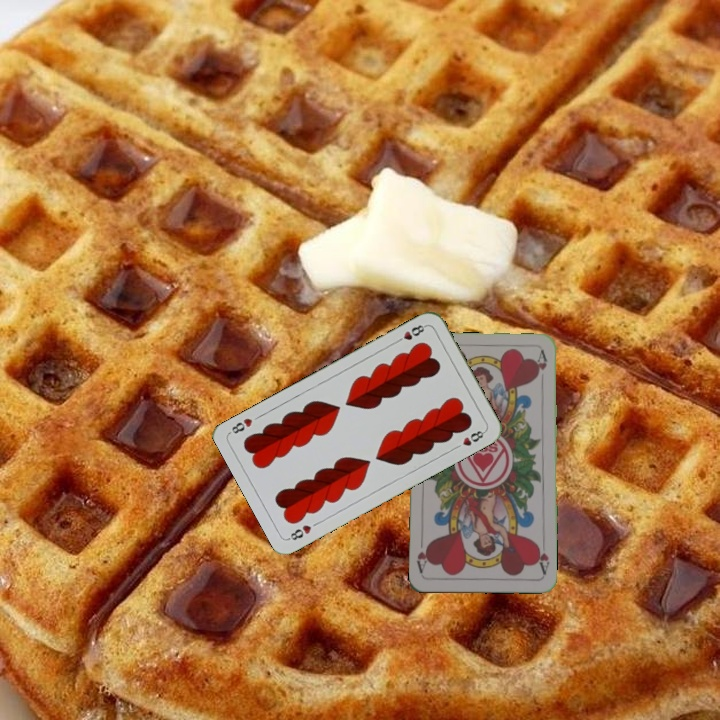H8: (392, 321, 429, 346), (284, 521, 314, 543)
HA: (533, 537, 552, 577)
